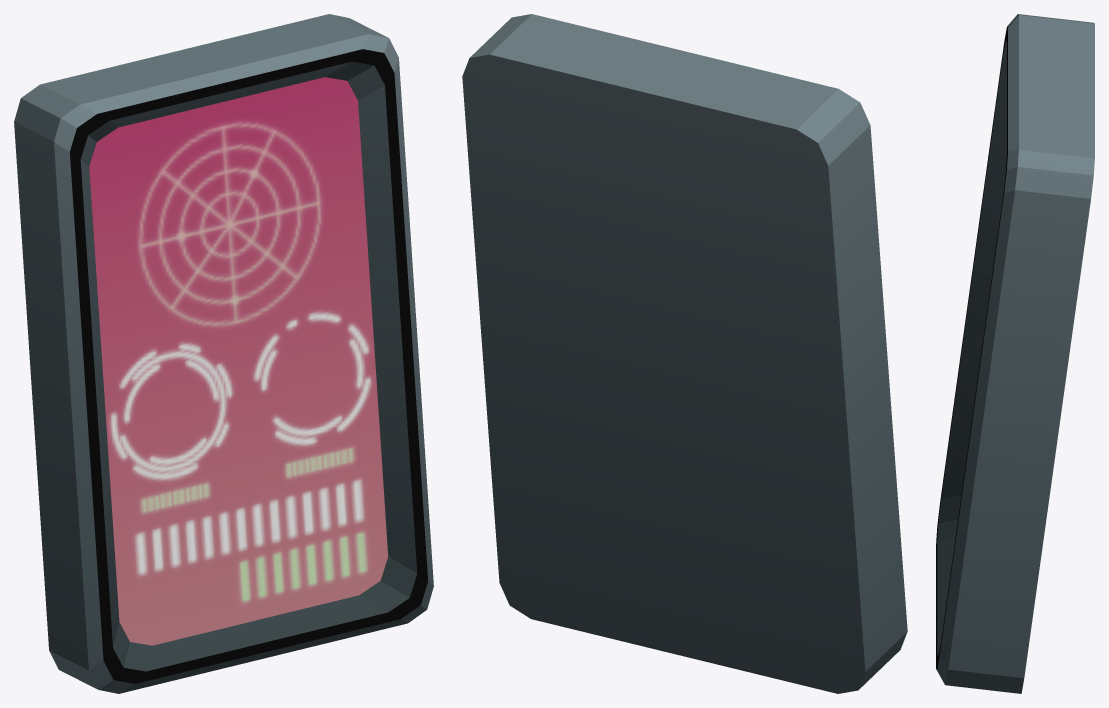
Rendered from Terminal_003_monitor_001.fbx.
The picture shows the model from 3 angles, left to right: view 1: azimuth 30°, elevation 25°; view 2: azimuth 150°, elevation 25°; view 3: azimuth 270°, elevation 25°; orthographic projection. The views are drawn at different scales.
Parts seen in each view (by area): view 1: Terminal_003_monitor_001; view 2: Terminal_003_monitor_001; view 3: Terminal_003_monitor_001.
Boxes of the visible parts, bbox=[...] form: Terminal_003_monitor_001: bbox=[14, 14, 433, 693]; Terminal_003_monitor_001: bbox=[462, 14, 907, 693]; Terminal_003_monitor_001: bbox=[936, 14, 1094, 693].
Size of the model in its own units: 63.75 by 26.68 by 101.
